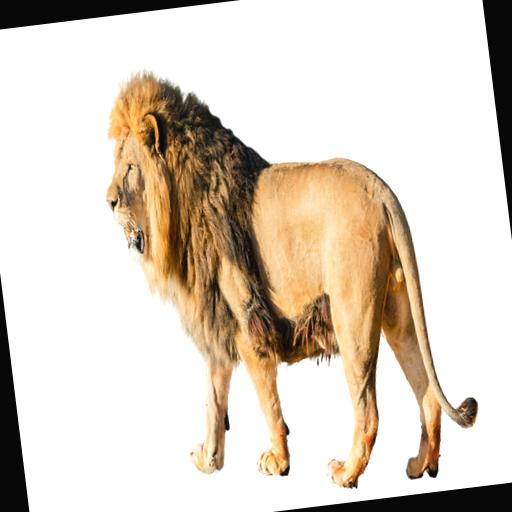lions: (91, 39, 493, 512)
